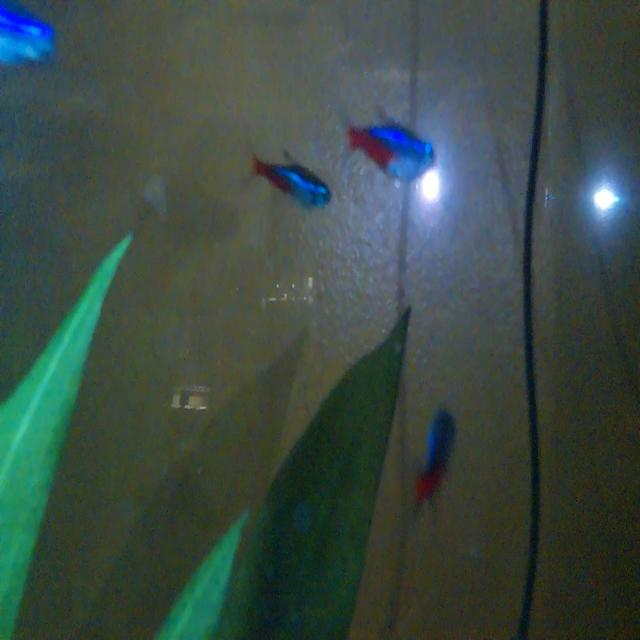fish: (340, 94, 443, 190), (246, 138, 335, 223)
